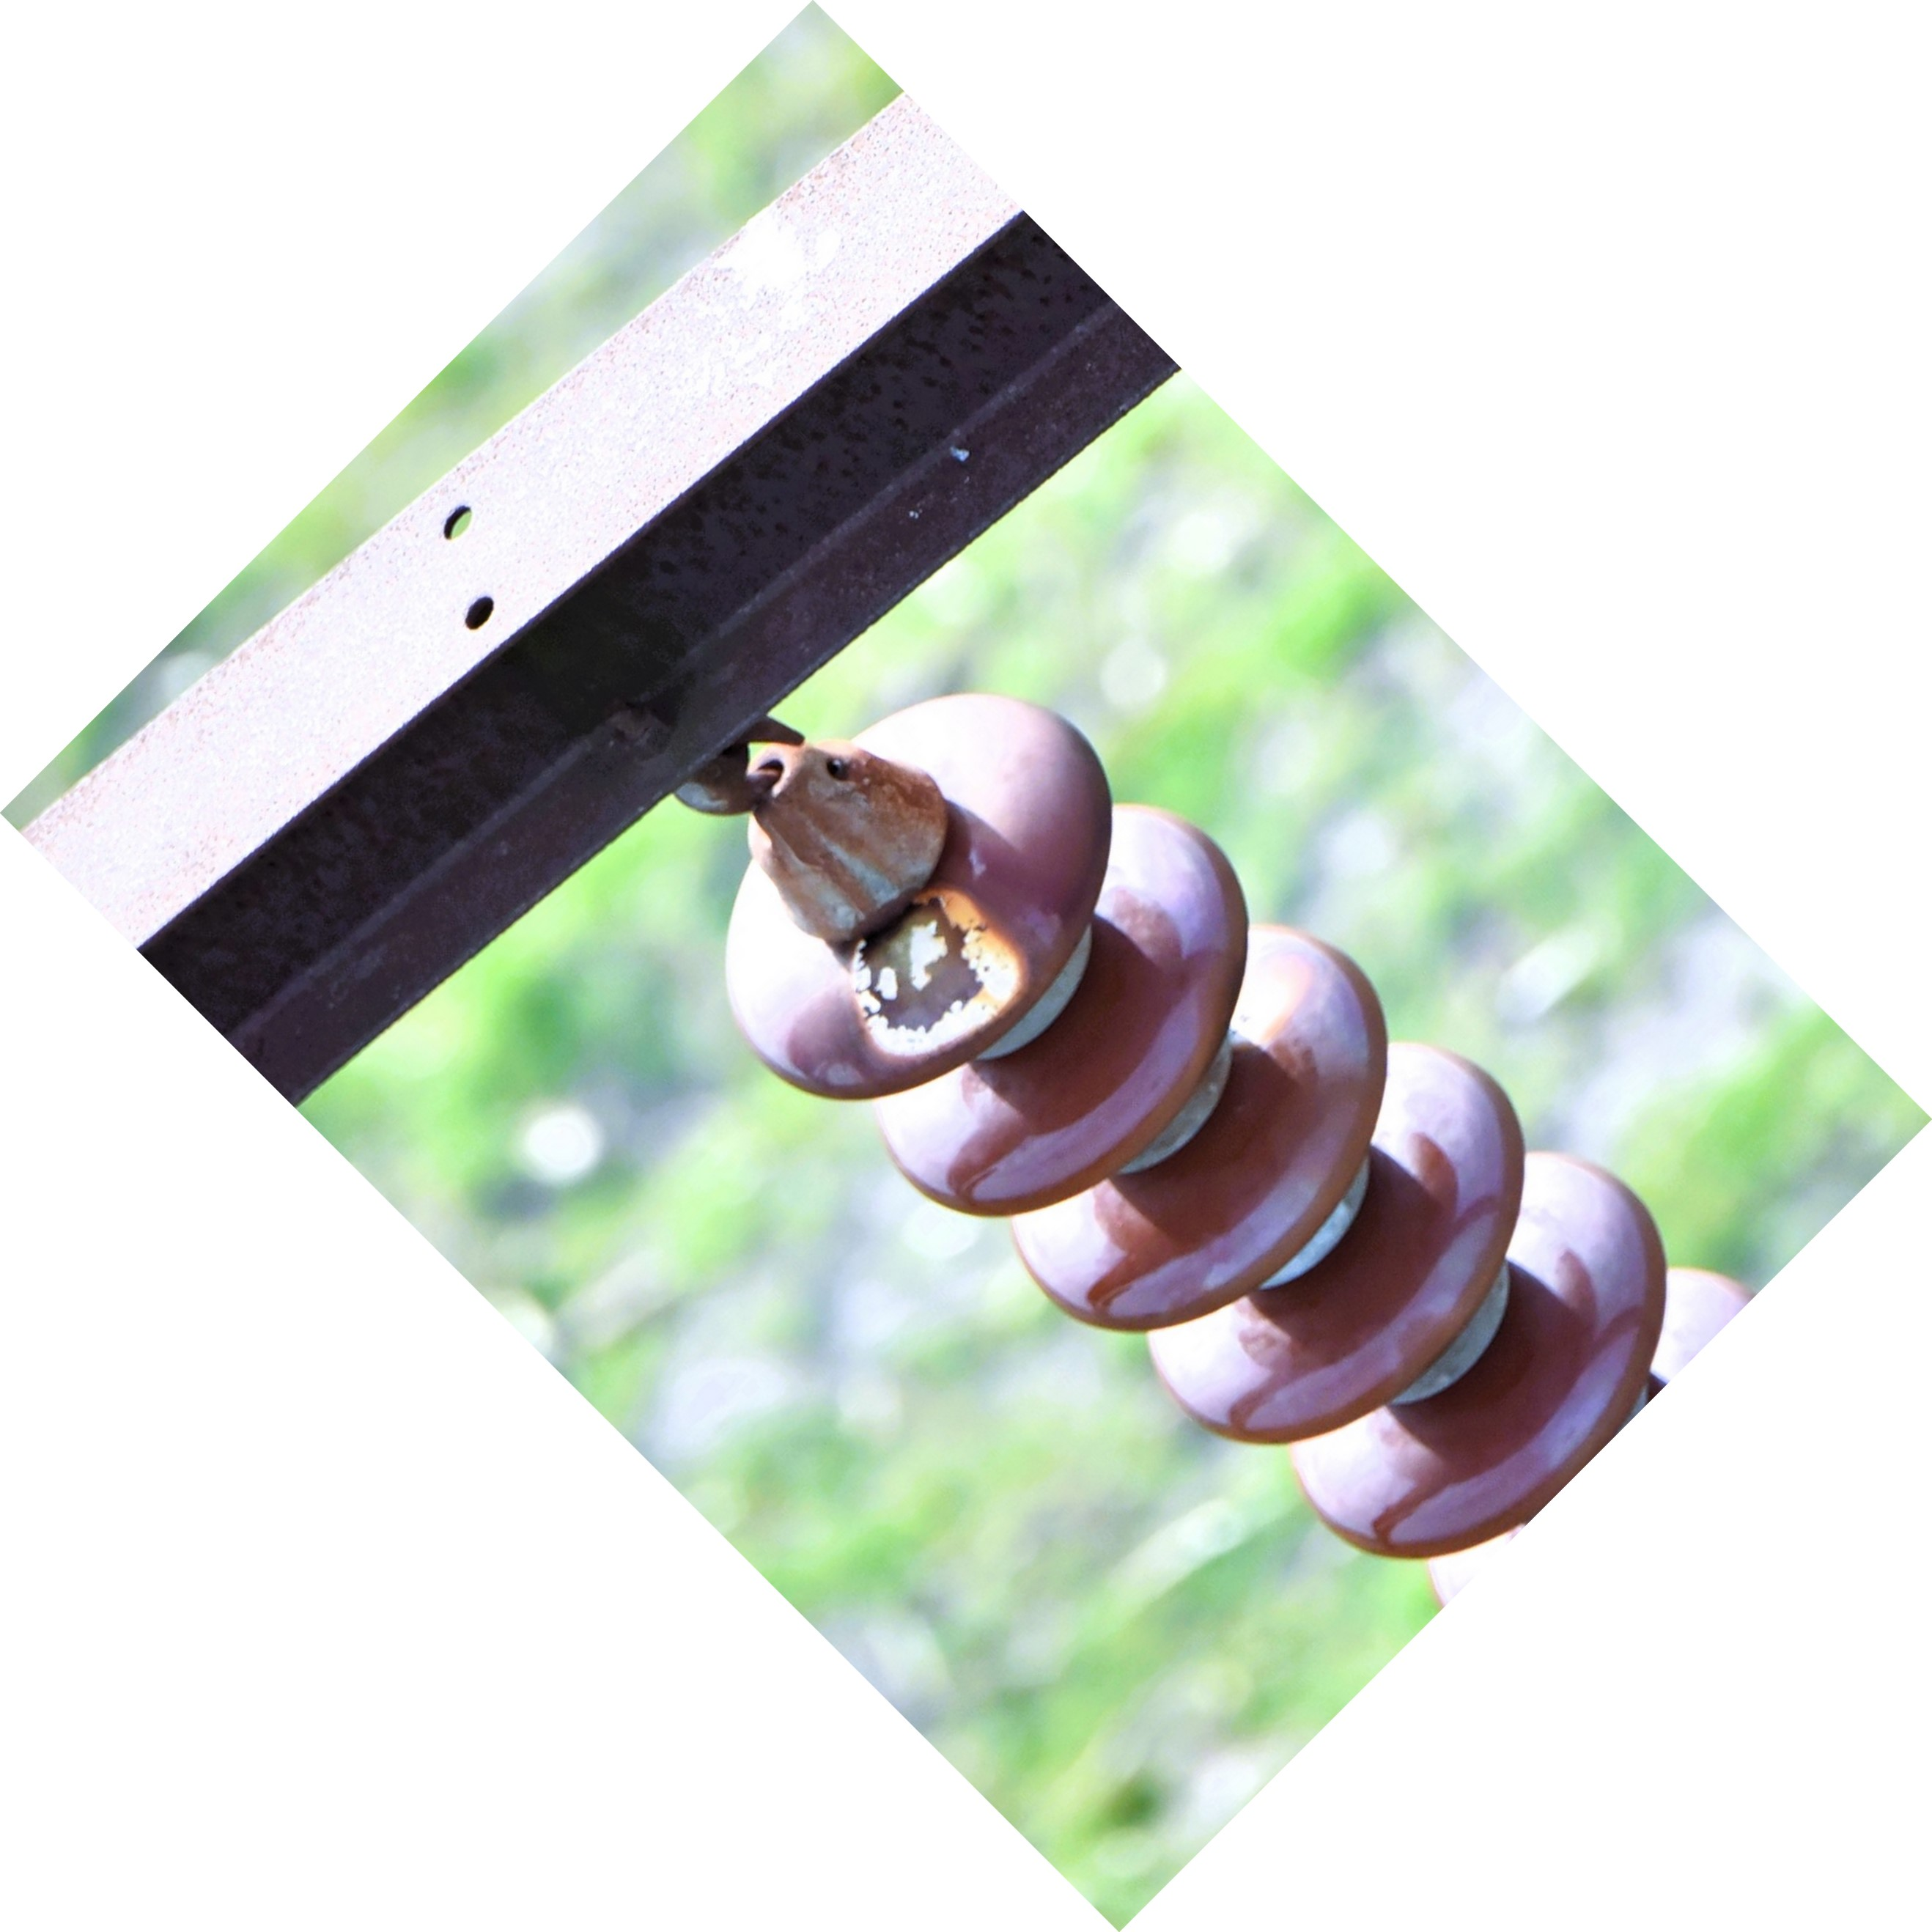Insulator flashover: (708, 674, 1127, 1111)
